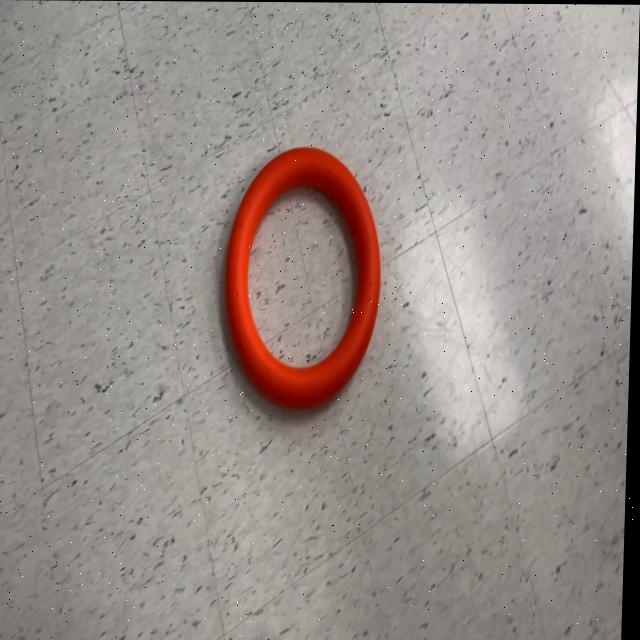note: (223, 143, 386, 412)
